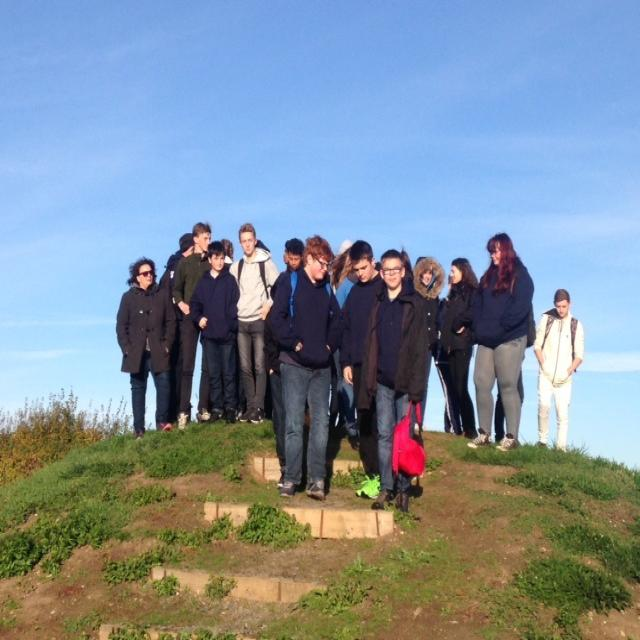body: (270, 232, 344, 501), (360, 248, 429, 512), (464, 230, 537, 453), (337, 238, 385, 502), (112, 254, 179, 443), (228, 221, 282, 425), (184, 240, 241, 425), (170, 221, 212, 433), (533, 287, 586, 453), (440, 256, 481, 439), (164, 231, 196, 423), (440, 266, 469, 438), (411, 253, 446, 354), (489, 368, 526, 446), (268, 237, 306, 304), (325, 237, 356, 291), (217, 236, 236, 266), (280, 237, 291, 263)
